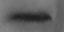LeftEyeFatigue: (8, 2, 60, 31)
